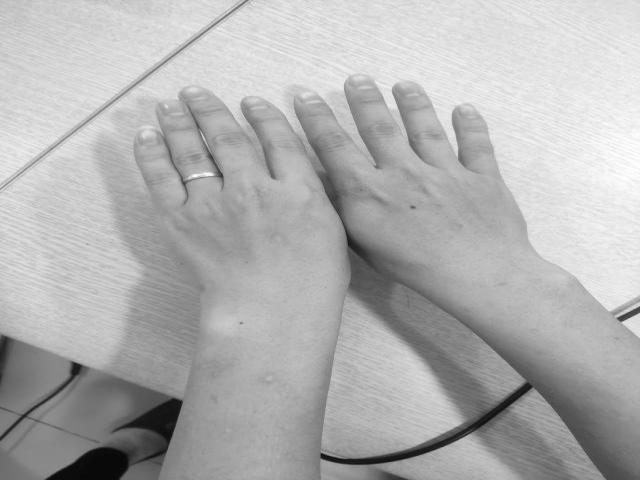not-gloved: (291, 75, 529, 290), (134, 87, 350, 292)
